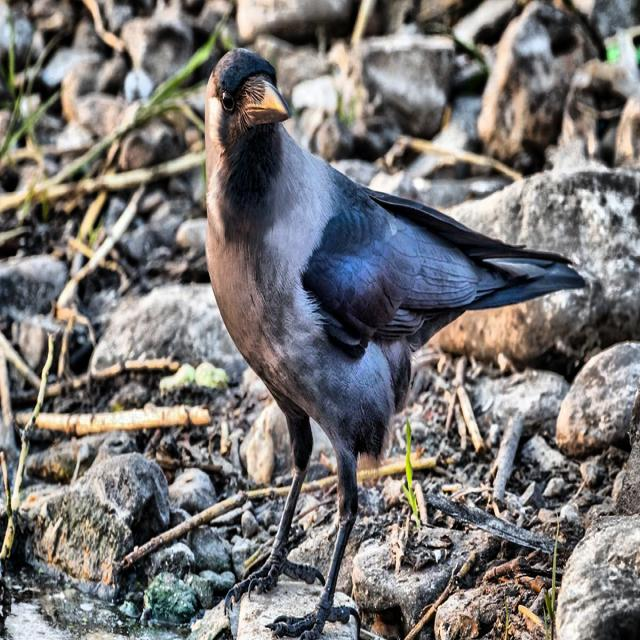crow: (176, 23, 587, 640)
